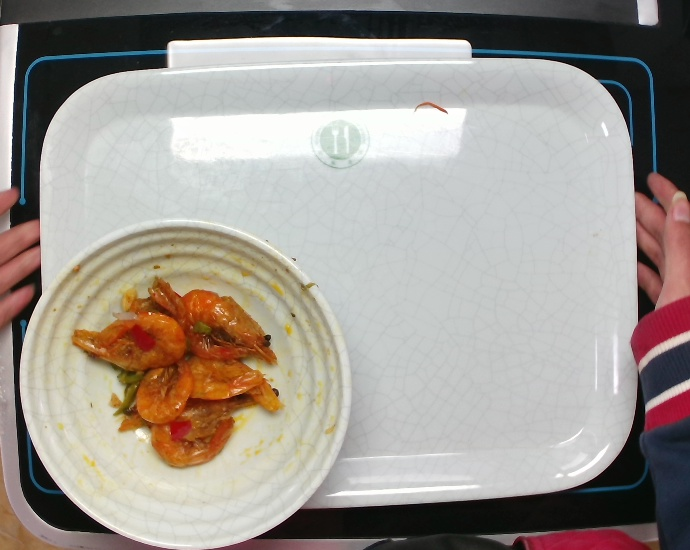JYsf-Da_Tang_Wan: (11, 209, 360, 550)
